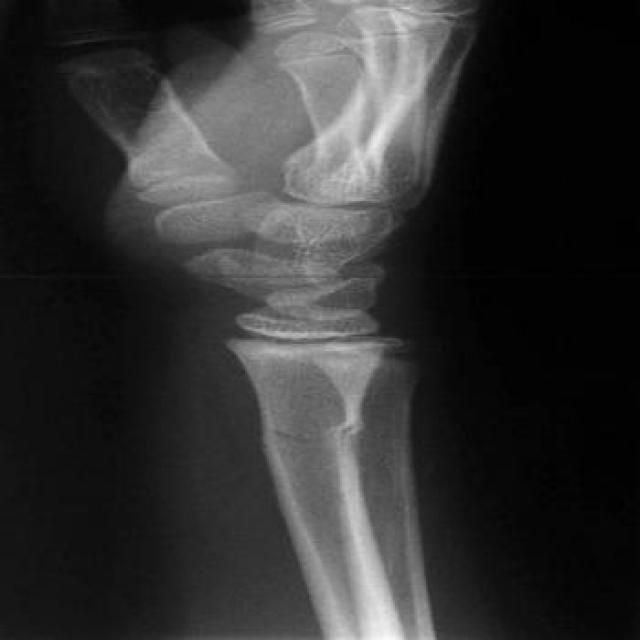Fracture: (251, 415, 385, 452)
